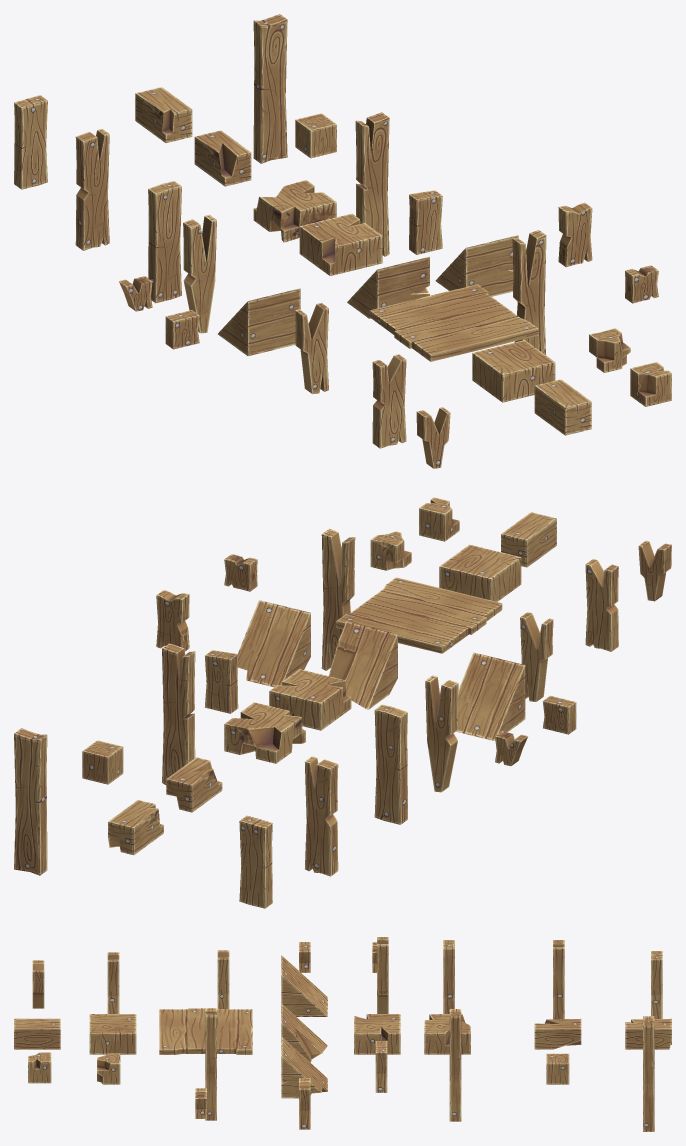
3 renders of one model, top to bottom at view 1: azimuth 30°, elevation 25°; view 2: azimuth 150°, elevation 25°; view 3: azimuth 270°, elevation 25°, orthographic. The views are drawn at different scales.
Visible parts, largest first — view 1: Wood_Platform_8x1x8_Geo, Wood_Long_2x10x1_Whole_Geo, Wood_Square_4x2x4_HalfBroken_Geo, Wood_Long_2x10x1_Halfbroken_Geo, Wood_Long_2x8x1_Whole_Geo, Wood_Long_2x8x1_Halfbroken_Geo, Wood_Square_4x2x4_Whole_Geo, Wood_Ramp_4x4x4_Whole_Geo, Wood_Square_4x2x4_Broken_Geo, Wood_Long_2x10x1_Broken_Geo, Wood_Long_2x8x1_Broken_Geo, Wood_Ramp_4x4x4_HalfBroken_Geo (+16 smaller); view 2: Wood_Platform_8x1x8_Geo, Wood_Ramp_4x4x4_Whole_Geo, Wood_Ramp_4x4x4_HalfBroken_Geo, Wood_Long_2x10x1_Whole_Geo, Wood_Ramp_4x4x4_Broken_Geo, Wood_Long_2x10x1_Halfbroken_Geo, Wood_Long_2x8x1_Whole_Geo, Wood_Long_2x8x1_Halfbroken_Geo, Wood_Square_4x2x4_Broken_Geo, Wood_Square_4x2x4_Whole_Geo, Wood_Square_4x2x4_HalfBroken_Geo, Wood_Long_2x10x1_Broken_Geo (+16 smaller); view 3: Wood_Platform_8x1x8_Geo, Wood_Square_4x2x4_Whole_Geo, Wood_Ramp_4x4x4_Whole_Geo, Wood_Square_4x2x4_HalfBroken_Geo, Wood_Ramp_4x4x4_HalfBroken_Geo, Wood_Square_2x4x2_Whole_Geo, Wood_Long_2x10x1_Halfbroken_Geo, Wood_Long_2x10x1_Whole_Geo, Wood_Square_4x2x4_Broken_Geo, Wood_Square_2x4x2_Broken_Geo, Wood_Ramp_4x4x4_Broken_Geo, Wood_Long_2x10x1_Broken_Geo (+15 smaller).
Part boxes in pixels (x1,y1,x2,y2): Wood_Platform_8x1x8_Geo: (369,284,538,361); Wood_Long_2x10x1_Whole_Geo: (253,14,287,163); Wood_Square_4x2x4_HalfBroken_Geo: (299,213,382,275); Wood_Long_2x10x1_Halfbroken_Geo: (355,112,389,256); Wood_Long_2x8x1_Whole_Geo: (148,181,181,303); Wood_Long_2x8x1_Halfbroken_Geo: (75,128,109,250); Wood_Square_4x2x4_Whole_Geo: (472,340,555,402); Wood_Ramp_4x4x4_Whole_Geo: (218,288,300,356); Wood_Square_4x2x4_Broken_Geo: (253,180,336,242); Wood_Long_2x10x1_Broken_Geo: (512,230,546,354); Wood_Long_2x8x1_Broken_Geo: (183,214,216,333); Wood_Ramp_4x4x4_HalfBroken_Geo: (435,235,518,296); Wood_Platform_8x1x8_Geo: (336,577,502,653); Wood_Ramp_4x4x4_Whole_Geo: (456,652,525,741); Wood_Ramp_4x4x4_HalfBroken_Geo: (237,600,310,687); Wood_Long_2x10x1_Whole_Geo: (14,728,47,875); Wood_Ramp_4x4x4_Broken_Geo: (329,621,397,709); Wood_Long_2x10x1_Halfbroken_Geo: (162,643,195,784); Wood_Long_2x8x1_Whole_Geo: (374,704,407,824); Wood_Long_2x8x1_Halfbroken_Geo: (305,756,338,876); Wood_Square_4x2x4_Broken_Geo: (224,702,305,763); Wood_Square_4x2x4_Whole_Geo: (439,544,521,601); Wood_Square_4x2x4_HalfBroken_Geo: (269,669,351,730); Wood_Long_2x10x1_Broken_Geo: (321,528,355,670); Wood_Platform_8x1x8_Geo: (159,1008,252,1054); Wood_Square_4x2x4_Whole_Geo: (89,1014,136,1054); Wood_Ramp_4x4x4_Whole_Geo: (281,955,327,1016); Wood_Square_4x2x4_HalfBroken_Geo: (354,1014,400,1054); Wood_Ramp_4x4x4_HalfBroken_Geo: (281,1036,327,1098); Wood_Square_2x4x2_Whole_Geo: (14,1018,60,1049); Wood_Long_2x10x1_Halfbroken_Geo: (449,1009,461,1121); Wood_Long_2x10x1_Whole_Geo: (643,1016,654,1131); Wood_Square_4x2x4_Broken_Geo: (424,1014,470,1054); Wood_Square_2x4x2_Broken_Geo: (534,1018,581,1049); Wood_Ramp_4x4x4_Broken_Geo: (281,1003,327,1062); Wood_Long_2x10x1_Broken_Geo: (205,1008,216,1120).
Size of the model in its own units: 3178 by 1000 by 5646.
Materials: 28 (28 with a texture image).
